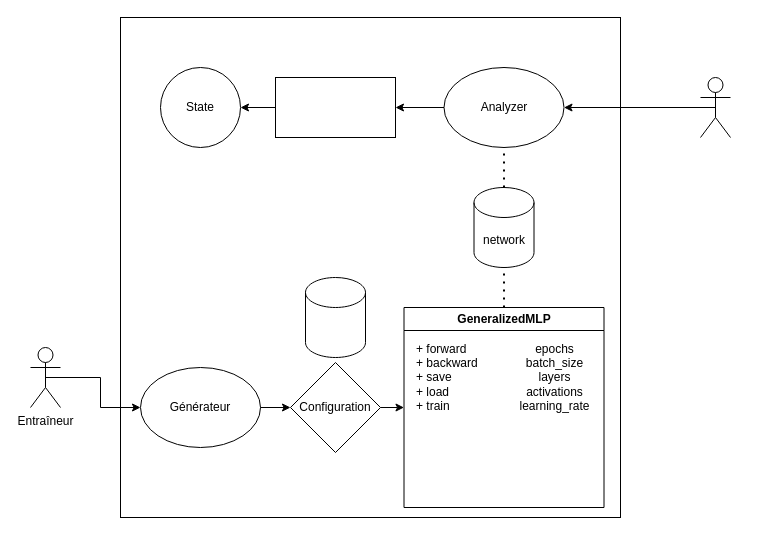
The diagram is 759 pixels wide and 535 high, and some of its shapes have lost their labels. The shapes that lost their labels are listed below. From the top down, each one's centre as x and y in pixels, then its label:
At pixel 335 107: "Board FEN".
At pixel 715 107: "Utilisateur".
At pixel 335 317: "Datasets".
